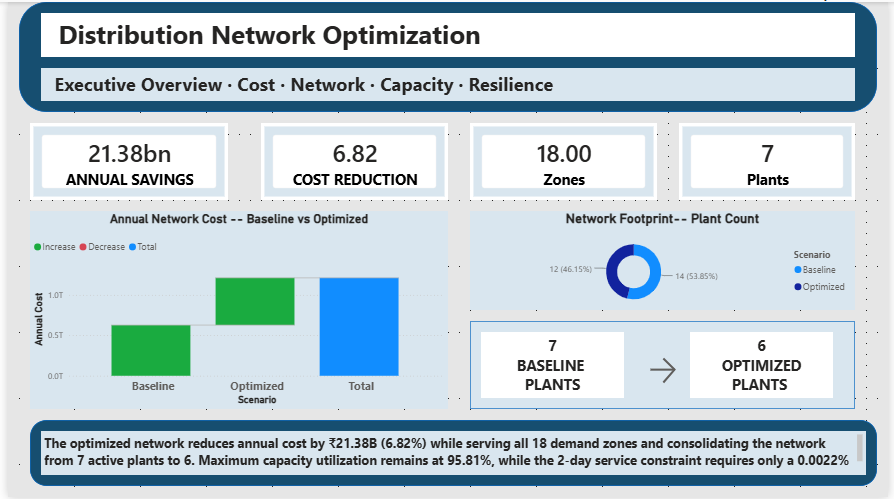

Layout of this report page (visuals, bound fields, positions):
{"tool":"powerbi","page":{"name":"Executive Network Overview","canvas":[1280,720],"ordinal":0},"visuals":[{"type":"cardVisual","fields":{"Data":["Avg(network_optimization_kpis.Savings_INR)"]},"box":[32,176,288,112],"z":0},{"type":"cardVisual","fields":{"Data":["Avg(network_optimization_kpis.Savings_Pct)"]},"box":[368,176,272,112],"z":1000},{"type":"cardVisual","fields":{"Data":["Max(network_optimization_kpis.Open_Plants)"]},"box":[976,176,256,112],"z":2000},{"type":"waterfallChart","title":"Annual Network Cost -- Baseline vs Optimized","fields":{"Category":["network_optimization_kpis.Scenario"],"Y":["Sum(network_optimization_kpis.Annual_Cost_INR)"]},"box":[32,304,608,288],"z":3000},{"type":"donutChart","title":"Network Footprint-- Plant Count","fields":{"Category":["network_optimization_kpis.Scenario"],"Y":["Sum(network_optimization_kpis.Open_Plants)"]},"box":[672,304,560,144],"z":4000},{"type":"cardVisual","fields":{"Data":["Avg(network_optimization_kpis.Zones)"]},"box":[672,176,272,112],"z":5000},{"type":"shape","box":[16,0,1248,160],"z":6000},{"type":"textbox","box":[48,16,1184,64],"z":7000},{"type":"textbox","box":[48,96,1184,48],"z":8000},{"type":"shape","box":[672,464,560,128],"z":9000},{"type":"textbox","box":[688,480,208,96],"z":10000},{"type":"actionButton","box":[928,512,96,48],"z":11000},{"type":"textbox","box":[992,480,208,96],"z":12000},{"type":"shape","box":[32,608,1232,96],"z":13000},{"type":"textbox","box":[48,624,1200,64],"z":14000}]}

Visuals, with their boxes in screenshot pixels (x1, y1, x2, y2), scaled from the page's 1280x720 canvas onto the 894x499 screenshot:
cardVisual - Avg(network_optimization_kpis.Savings_INR): pyautogui.locateOnScreen(22, 122, 224, 200)
cardVisual - Avg(network_optimization_kpis.Savings_Pct): pyautogui.locateOnScreen(257, 122, 447, 200)
cardVisual - Max(network_optimization_kpis.Open_Plants): pyautogui.locateOnScreen(682, 122, 860, 200)
"Annual Network Cost -- Baseline vs Optimized" waterfallChart: pyautogui.locateOnScreen(22, 211, 447, 410)
"Network Footprint-- Plant Count" donutChart: pyautogui.locateOnScreen(469, 211, 860, 310)
cardVisual - Avg(network_optimization_kpis.Zones): pyautogui.locateOnScreen(469, 122, 659, 200)
shape: pyautogui.locateOnScreen(11, 0, 883, 111)
textbox: pyautogui.locateOnScreen(34, 11, 860, 55)
textbox: pyautogui.locateOnScreen(34, 67, 860, 100)
shape: pyautogui.locateOnScreen(469, 322, 860, 410)
textbox: pyautogui.locateOnScreen(481, 333, 626, 399)
actionButton: pyautogui.locateOnScreen(648, 355, 715, 388)
textbox: pyautogui.locateOnScreen(693, 333, 838, 399)
shape: pyautogui.locateOnScreen(22, 421, 883, 488)
textbox: pyautogui.locateOnScreen(34, 432, 872, 477)
